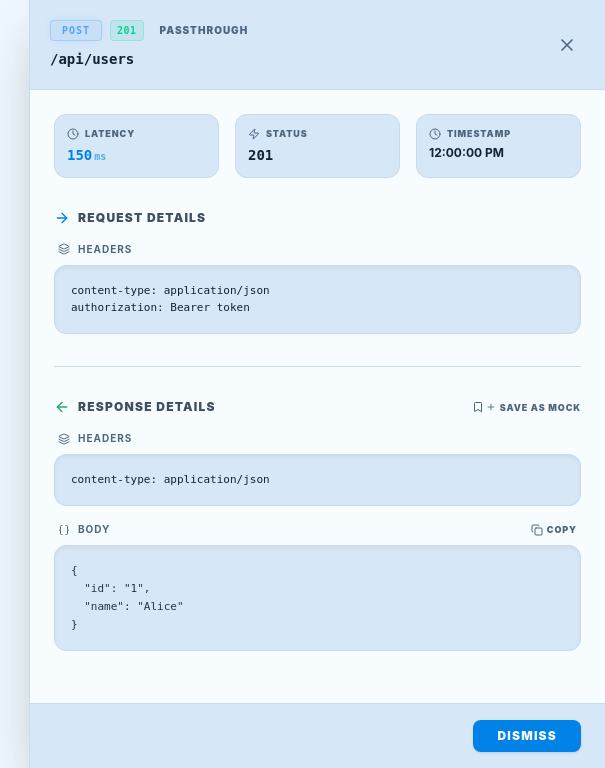
RequestDetail › save as mock › cancels on Escape key
This screenshot has width=605, height=768.
Click the button with aria-label "save as mock response".
click(526, 407)  # box left=472, top=400, right=581, bottom=414
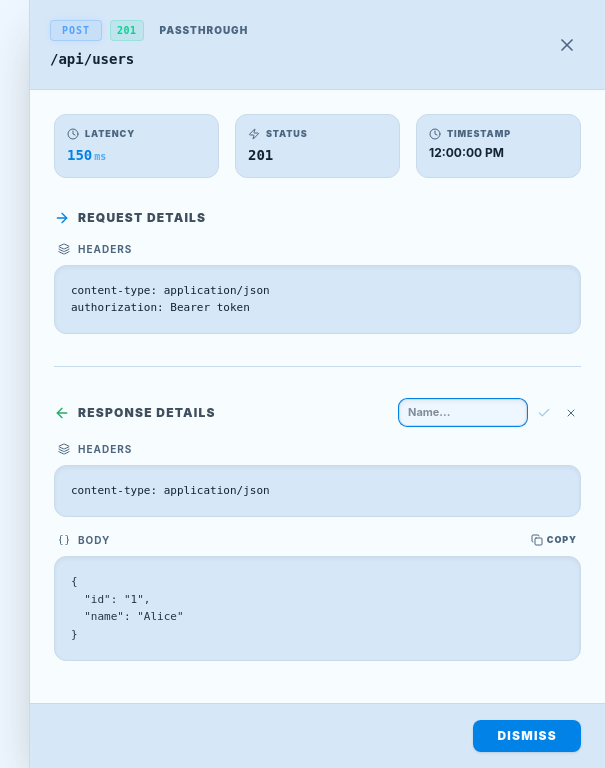
Type "Test" into the field with placeholder "Name...".
click(463, 413); type("Test")  # box left=399, top=399, right=527, bottom=426
Then press Escape
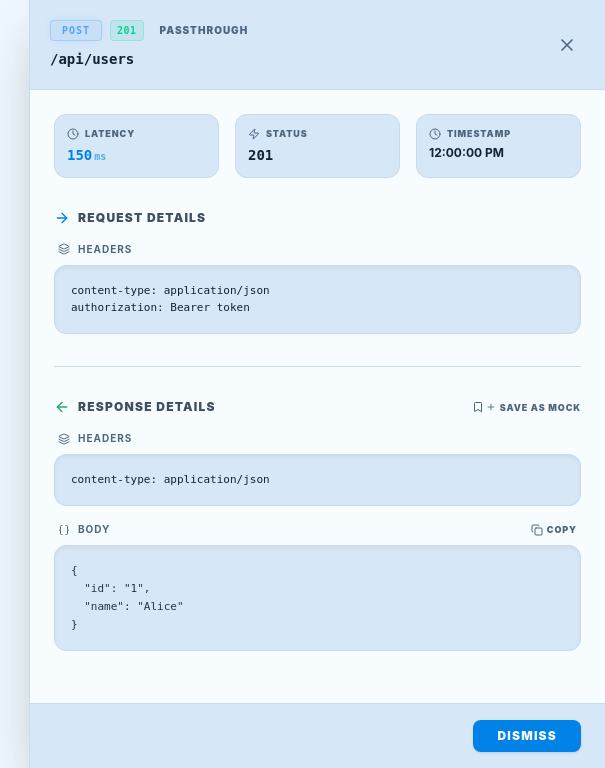
expect the field with placeholder "Name..." is gone: met
